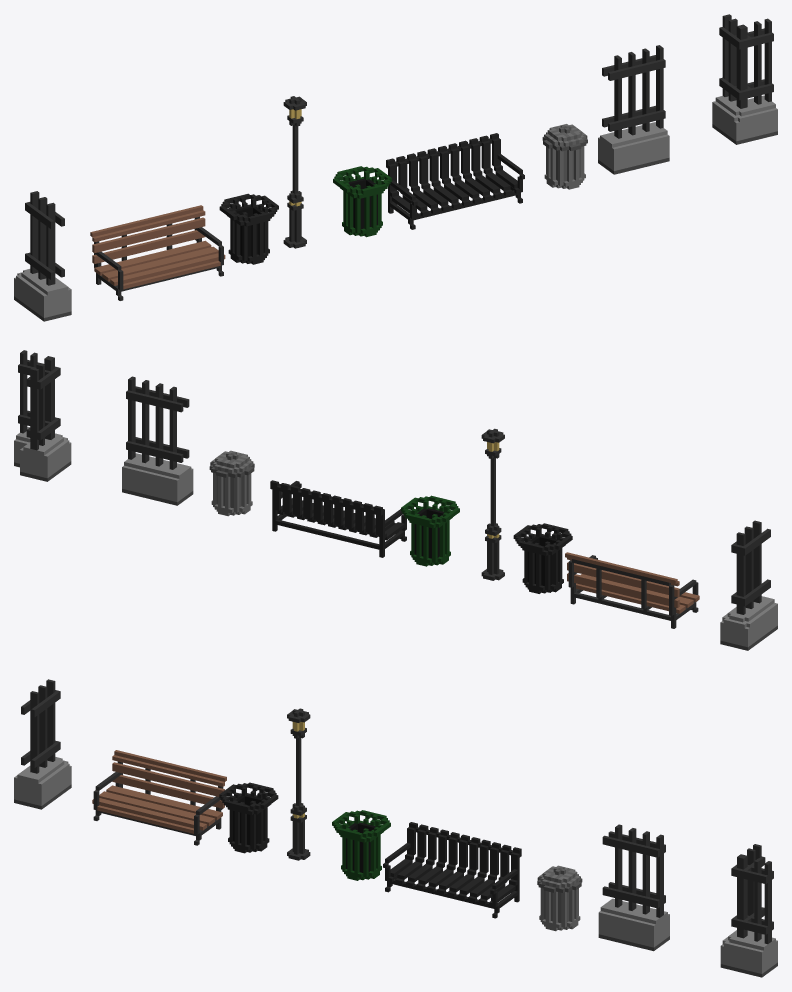
Rendered from decor pack.glb.
3 views of the same model, one above another, from view 1: azimuth 30°, elevation 25°; view 2: azimuth 150°, elevation 25°; view 3: azimuth 330°, elevation 25° (orthographic).
Parts seen in each view (by area): view 1: Untitled, Untitled.002, Untitled.007, Untitled.008, Untitled.009, Untitled.006, Untitled.004, Untitled.005, Untitled.013, Untitled.012; view 2: Untitled.008, Untitled.002, Untitled.007, Untitled, Untitled.009, Untitled.006, Untitled.004, Untitled.005, Untitled.013, Untitled.012; view 3: Untitled, Untitled.002, Untitled.008, Untitled.007, Untitled.009, Untitled.006, Untitled.004, Untitled.005, Untitled.013, Untitled.012.
Boxes of the visible parts, x1,y1,x2,y2 form: Untitled: (386, 133, 524, 229); Untitled.002: (90, 205, 225, 300); Untitled.007: (712, 14, 777, 144); Untitled.008: (598, 45, 669, 174); Untitled.009: (14, 191, 71, 321); Untitled.006: (219, 193, 278, 264); Untitled.004: (333, 166, 391, 237); Untitled.005: (542, 124, 587, 189); Untitled.013: (283, 96, 306, 248); Untitled.012: (285, 190, 303, 247); Untitled.008: (122, 376, 193, 505); Untitled.002: (565, 552, 699, 628); Untitled.007: (14, 350, 71, 481); Untitled: (270, 480, 406, 557); Untitled.009: (720, 520, 777, 650); Untitled.006: (513, 523, 572, 593); Untitled.004: (401, 495, 459, 566); Untitled.005: (209, 450, 254, 516); Untitled.013: (481, 428, 504, 580); Untitled.012: (484, 523, 502, 579); Untitled: (383, 822, 521, 918); Untitled.002: (92, 750, 226, 845); Untitled.008: (598, 824, 669, 951); Untitled.007: (720, 844, 777, 977); Untitled.009: (14, 679, 71, 809); Untitled.006: (219, 782, 278, 853); Untitled.004: (332, 810, 390, 880); Untitled.005: (537, 865, 582, 931); Untitled.013: (287, 708, 310, 860); Untitled.012: (290, 803, 308, 859).
Size of the model in its own units: 21.39 by 4 by 1.6.
Materials: 10 (10 with a texture image).
